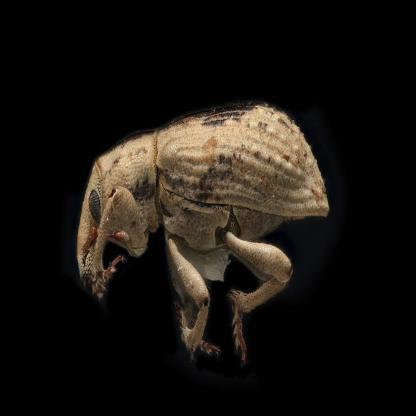rice-bug: (75, 101, 332, 360)
